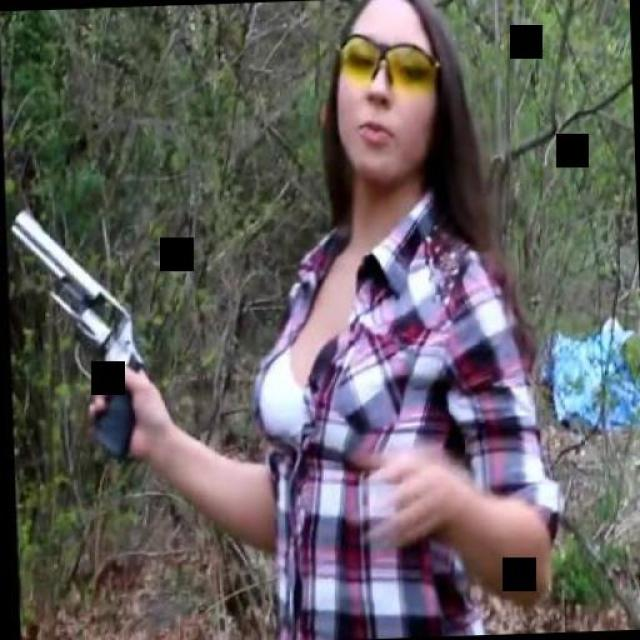gun: (2, 200, 170, 459)
